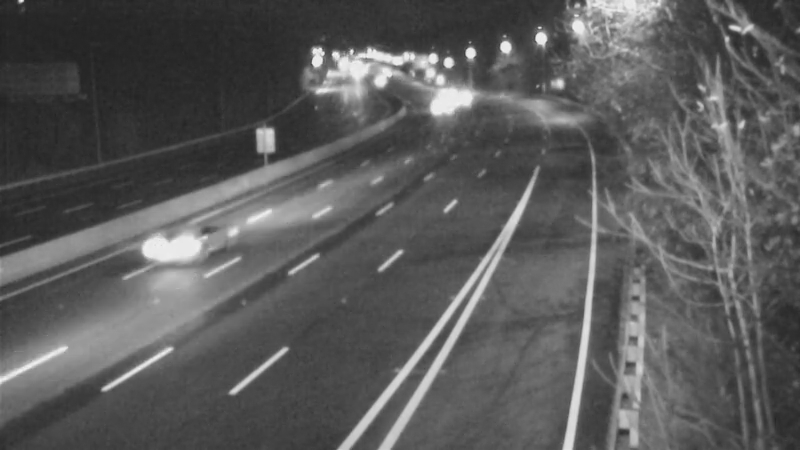vehicle: (128, 215, 208, 295), (417, 79, 467, 129)
